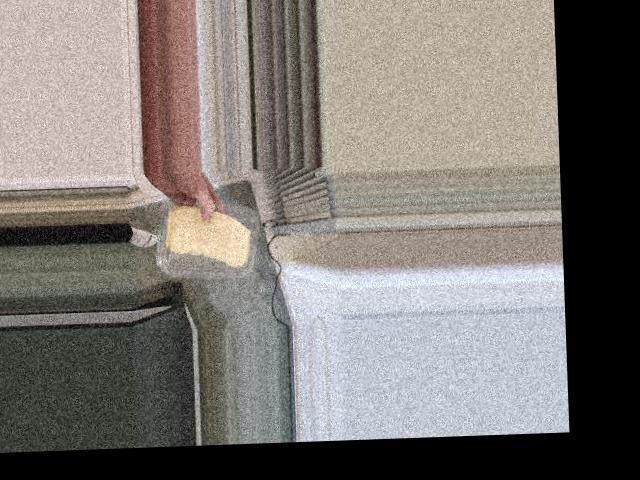cheese: (155, 197, 259, 273)
